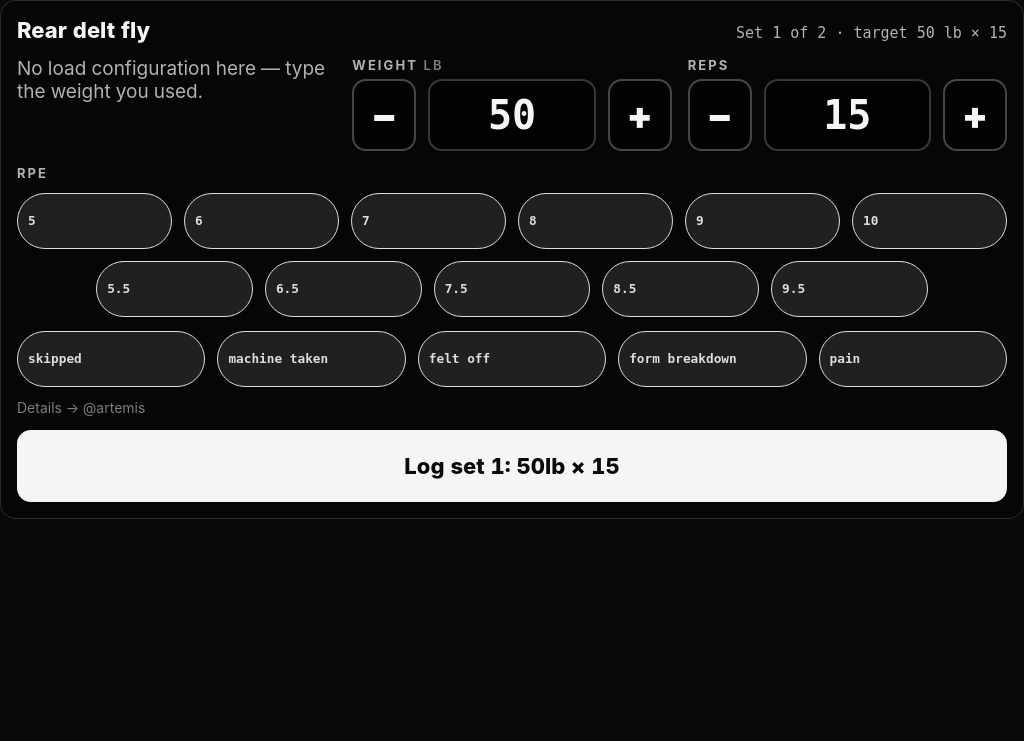
it: pain chip › the picker never raises the keyboard and every region is offered
What coordinates should you click on to do the following:
click the button with test id "pain-chip"
I would click on:
 (913, 359)
Its box is [819, 331, 1007, 387].
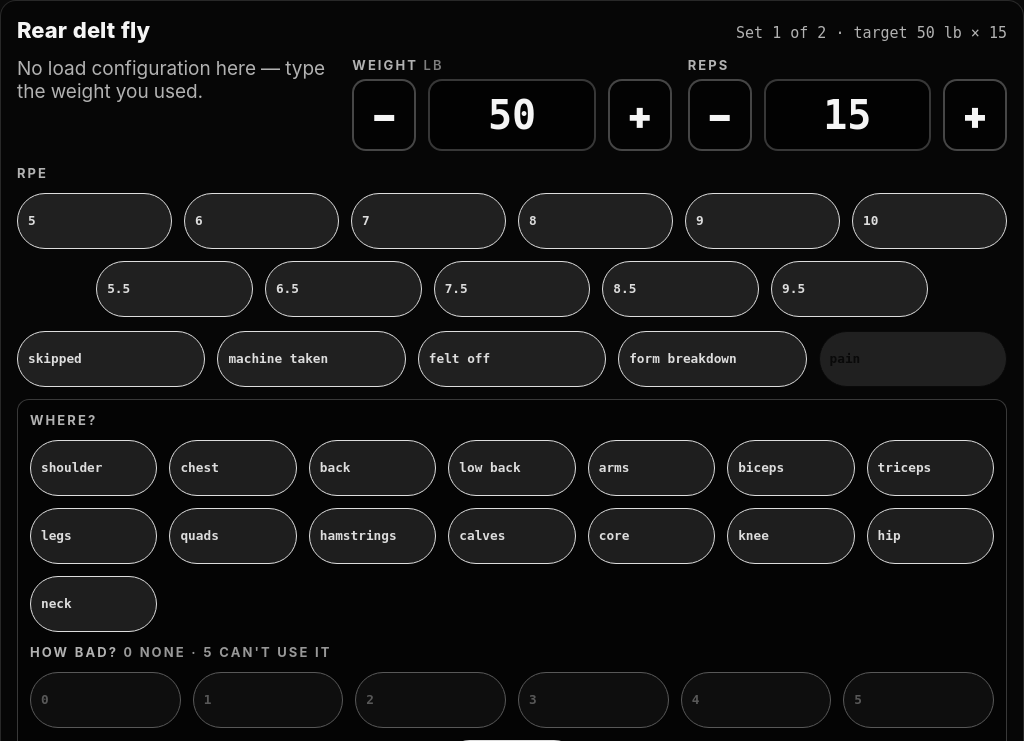
expect the button "shoulder" is shown: met, box [30, 440, 157, 496]
expect the button "chest" is shown: met, box [169, 440, 297, 496]
expect the button "back" is shown: met, box [309, 440, 436, 496]
